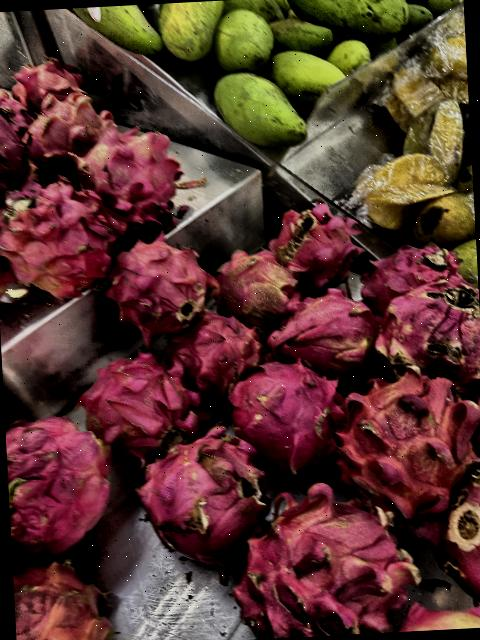buah-naga-belum-matang: (74, 120, 192, 232), (12, 560, 112, 640), (26, 91, 108, 169), (218, 254, 295, 320)
buah-naga-matang: (237, 483, 414, 640), (340, 361, 480, 520), (5, 408, 119, 550), (142, 431, 262, 564), (80, 349, 213, 458), (230, 362, 356, 469), (0, 181, 117, 289), (384, 267, 480, 398), (110, 234, 220, 336), (276, 296, 382, 376), (270, 204, 368, 290), (166, 309, 266, 390), (427, 464, 480, 613), (358, 239, 466, 293), (0, 81, 42, 190)
